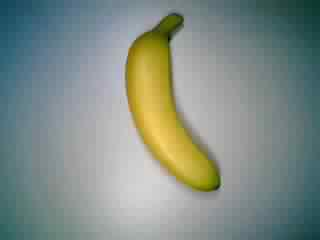banana: (116, 10, 230, 198)
